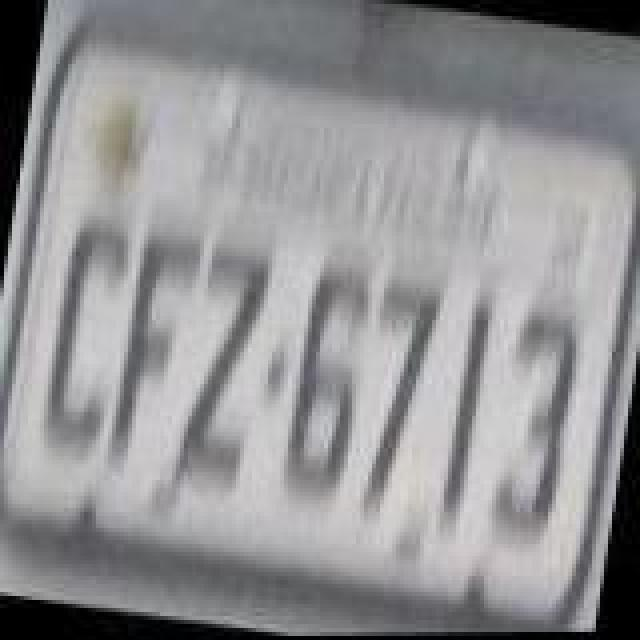1: (432, 286, 496, 534)
3: (482, 304, 590, 556)
6: (278, 262, 378, 514)
7: (346, 276, 446, 524)
C: (36, 206, 140, 462)
F: (100, 228, 204, 480)
Z: (172, 238, 276, 494)
